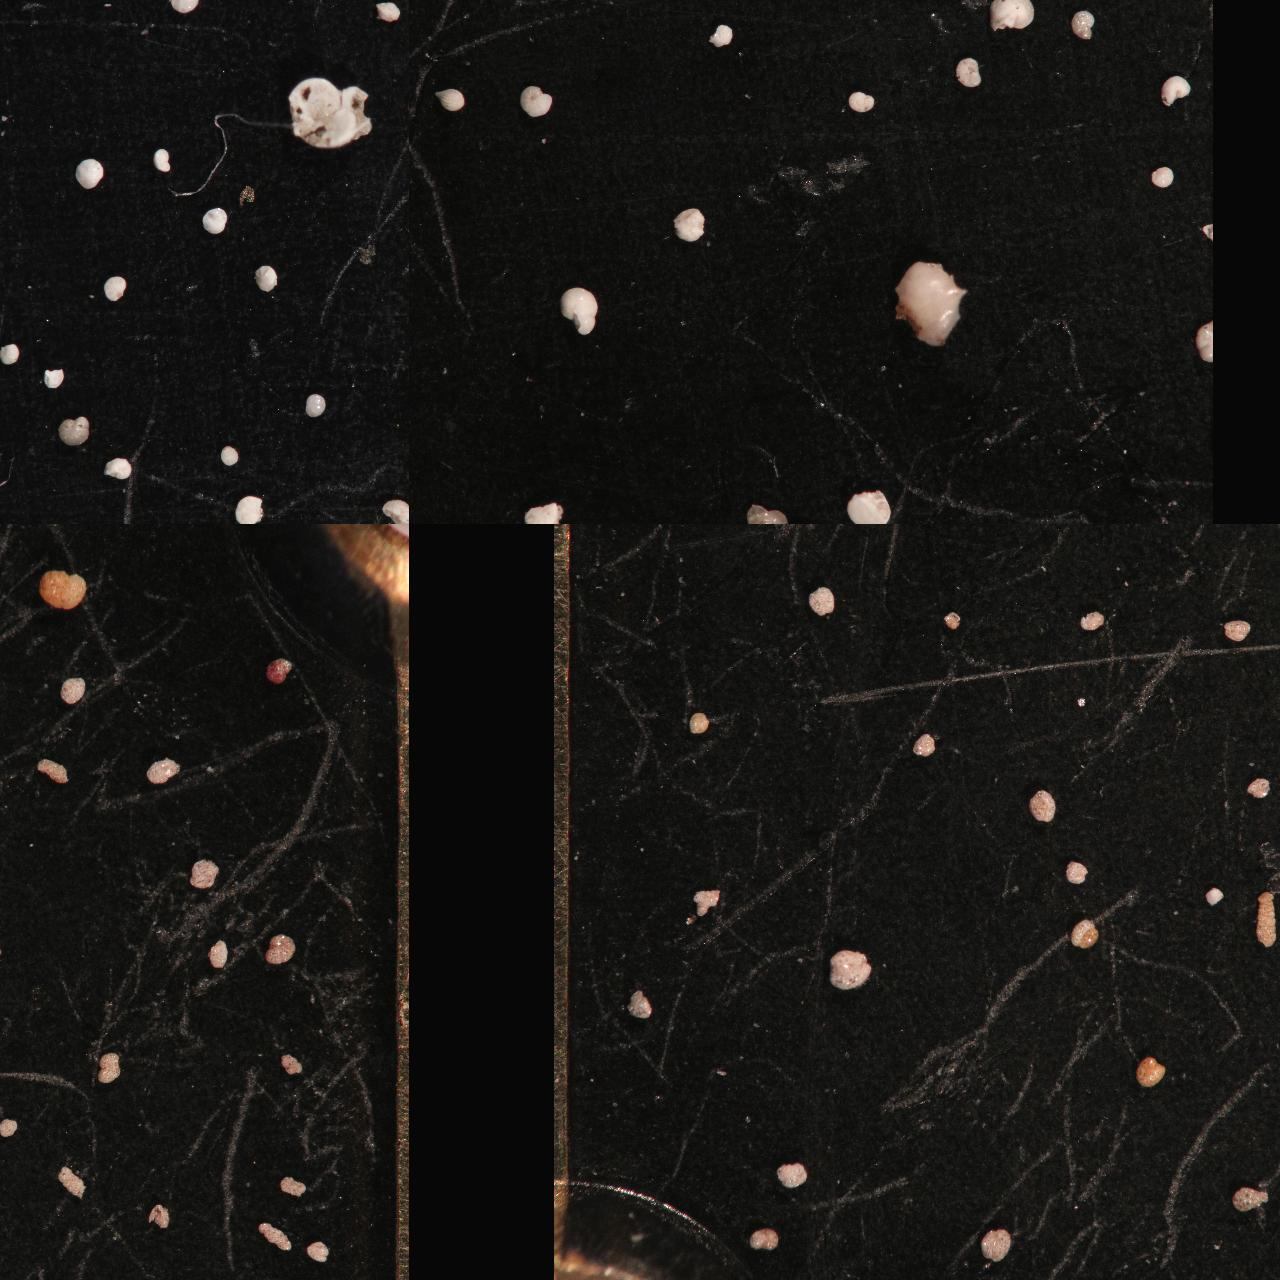agglutinated: (39, 568, 87, 611), (0, 686, 28, 749), (831, 949, 871, 993), (1099, 524, 1158, 551), (0, 806, 28, 862), (0, 1153, 23, 1208), (1257, 890, 1278, 948), (259, 1221, 293, 1253), (981, 1227, 1012, 1262), (1137, 1055, 1167, 1089), (1233, 1185, 1269, 1213), (57, 1164, 87, 1198), (266, 933, 295, 966), (148, 757, 181, 785), (693, 888, 723, 918), (1070, 919, 1099, 949), (191, 858, 219, 890), (36, 758, 69, 785), (776, 1162, 806, 1190), (1029, 791, 1056, 823), (627, 988, 653, 1020), (750, 1227, 778, 1253), (810, 588, 836, 617), (884, 524, 920, 544), (267, 658, 293, 685), (98, 1054, 121, 1084), (1020, 524, 1054, 544), (61, 678, 86, 704), (1225, 620, 1252, 644), (913, 731, 935, 758), (0, 584, 16, 620), (1207, 524, 1239, 543), (149, 1204, 171, 1230), (280, 1177, 306, 1198), (1065, 862, 1088, 885), (1082, 611, 1107, 632), (869, 524, 900, 540), (209, 940, 227, 967), (953, 524, 983, 540), (307, 1242, 331, 1264), (280, 1055, 304, 1076), (690, 712, 710, 736), (1248, 777, 1269, 799), (0, 1012, 15, 1042), (0, 785, 13, 819), (1175, 524, 1199, 542), (0, 660, 12, 695), (636, 524, 666, 538), (0, 1049, 14, 1073), (0, 1119, 18, 1137), (1206, 887, 1224, 905), (944, 612, 960, 631), (0, 934, 11, 962), (0, 1226, 11, 1253), (0, 908, 9, 935), (0, 1041, 12, 1061), (0, 1208, 11, 1230), (737, 524, 758, 535), (1269, 524, 1280, 537)
calcareous: (896, 259, 969, 348), (288, 77, 374, 149), (23, 0, 98, 29), (560, 286, 598, 336), (990, 0, 1037, 34), (847, 489, 891, 524), (0, 248, 23, 305), (518, 84, 553, 118), (75, 156, 105, 192), (57, 415, 90, 448), (676, 207, 706, 244), (1160, 76, 1191, 105), (223, 0, 267, 20), (748, 502, 788, 524), (234, 496, 265, 524), (956, 57, 982, 89), (526, 502, 563, 524), (434, 88, 467, 113), (411, 0, 451, 20), (1197, 318, 1213, 365), (382, 497, 409, 524), (203, 207, 230, 234), (779, 0, 818, 19), (254, 264, 278, 294), (374, 0, 402, 25), (102, 457, 132, 479), (1074, 11, 1096, 41), (104, 275, 128, 302), (865, 0, 896, 20), (709, 25, 733, 49), (339, 0, 365, 22), (1152, 163, 1175, 189), (152, 147, 173, 173), (858, 0, 887, 19), (849, 93, 874, 114), (306, 393, 326, 418), (1128, 0, 1160, 15), (420, 0, 448, 18), (45, 367, 64, 392), (1165, 0, 1194, 16), (527, 0, 554, 18), (1, 341, 19, 367), (170, 0, 199, 15), (911, 0, 941, 14), (1061, 0, 1088, 14), (295, 0, 320, 15), (222, 445, 239, 467), (0, 0, 26, 14), (34, 0, 57, 15), (903, 0, 928, 13), (598, 0, 626, 12), (956, 0, 987, 11), (73, 0, 96, 13), (87, 0, 113, 12), (670, 0, 695, 12), (998, 0, 1022, 12), (0, 158, 11, 182), (674, 0, 697, 11), (0, 338, 11, 360), (0, 52, 11, 74), (1118, 0, 1141, 11), (495, 0, 516, 11), (0, 393, 8, 411), (0, 0, 7, 18)
